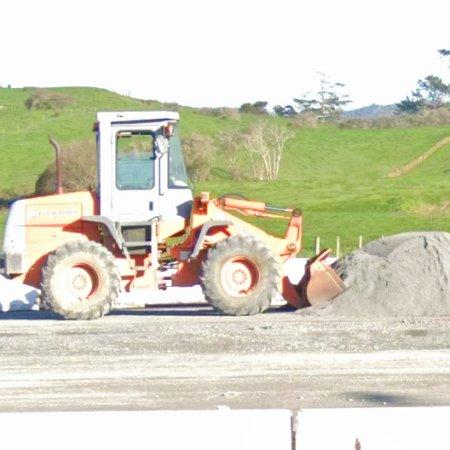tractors: (0, 112, 346, 319)
